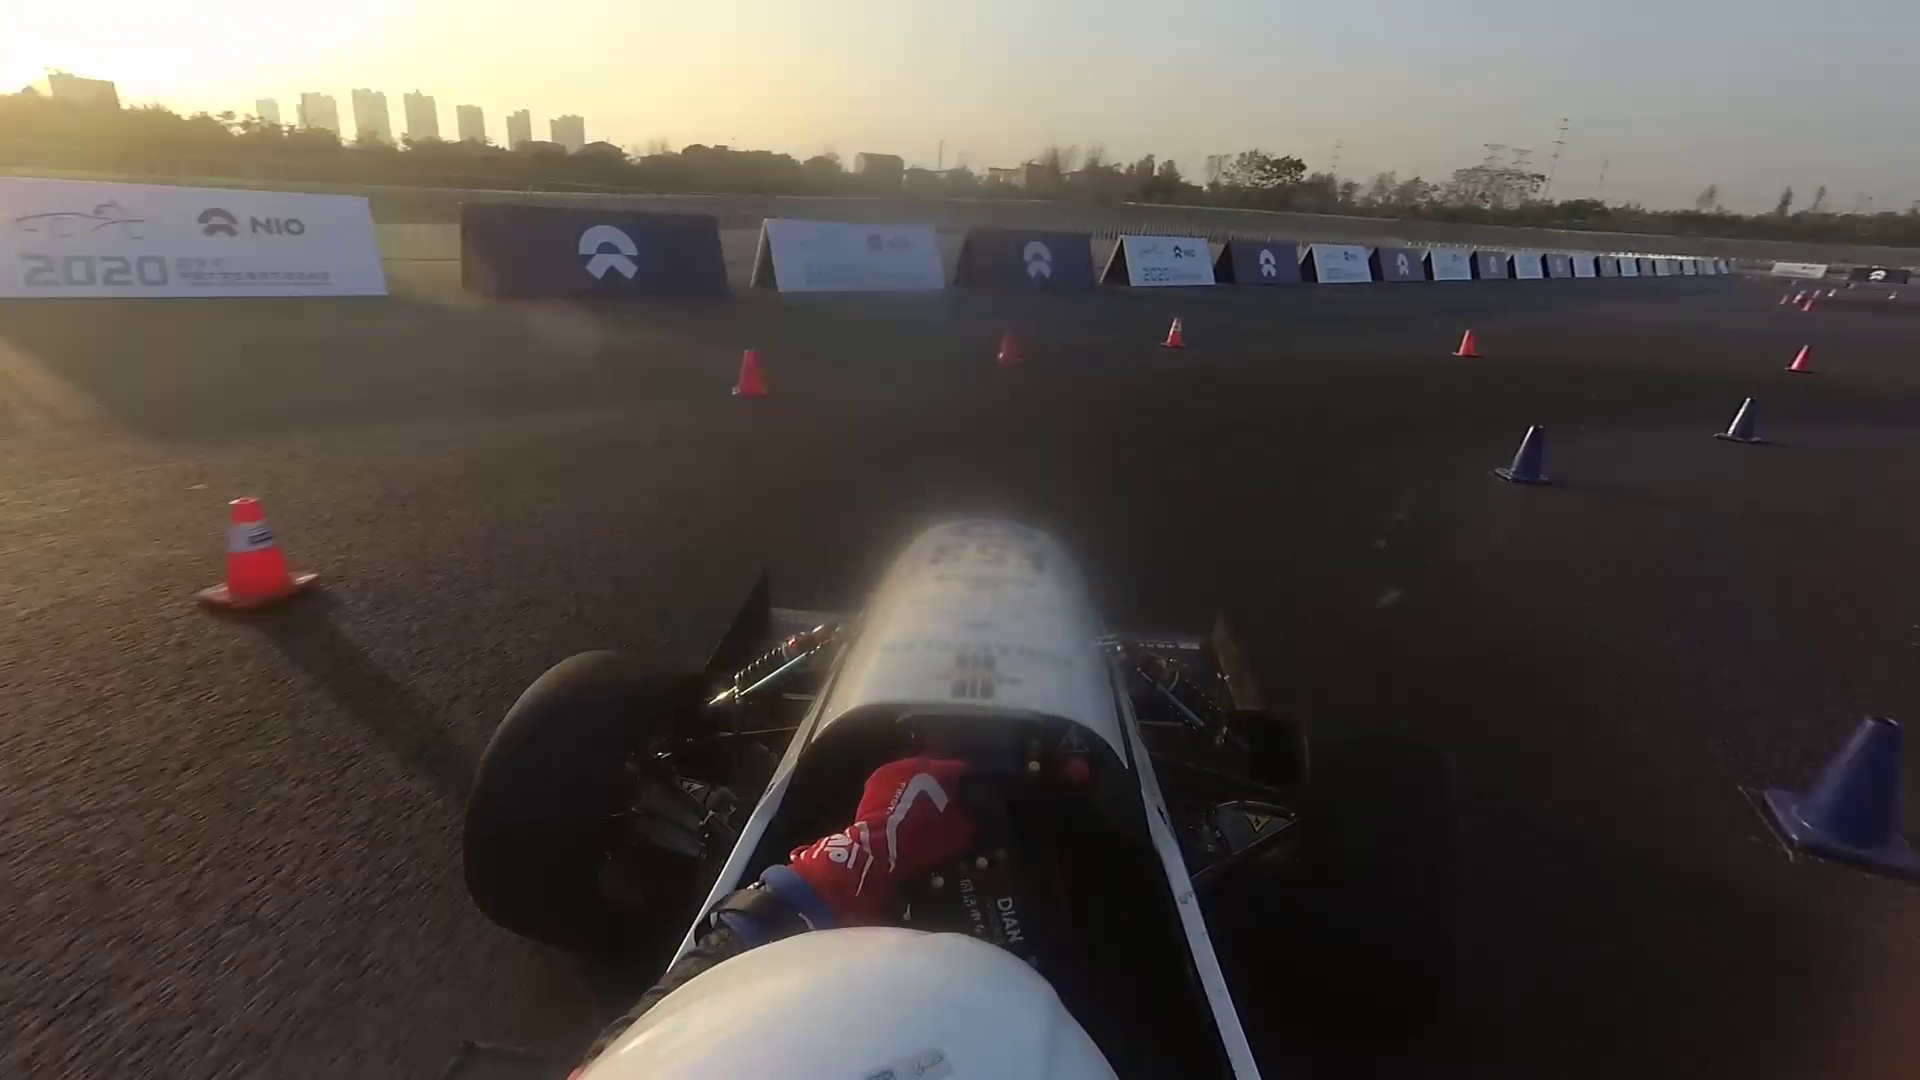blue_cone: (1760, 711, 1898, 866), (1491, 423, 1553, 483), (1717, 398, 1760, 446)
red_cone: (185, 496, 316, 618), (725, 349, 771, 402), (1158, 316, 1189, 351), (1451, 326, 1477, 359), (997, 334, 1017, 367), (1787, 347, 1809, 375)
